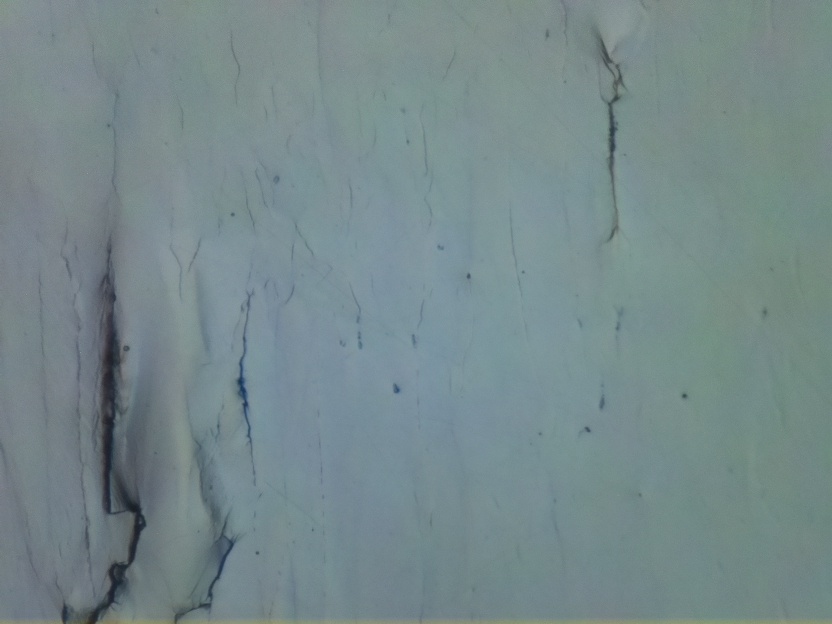crack: (87, 239, 151, 624), (599, 40, 635, 247), (170, 525, 243, 624), (234, 287, 265, 488)
